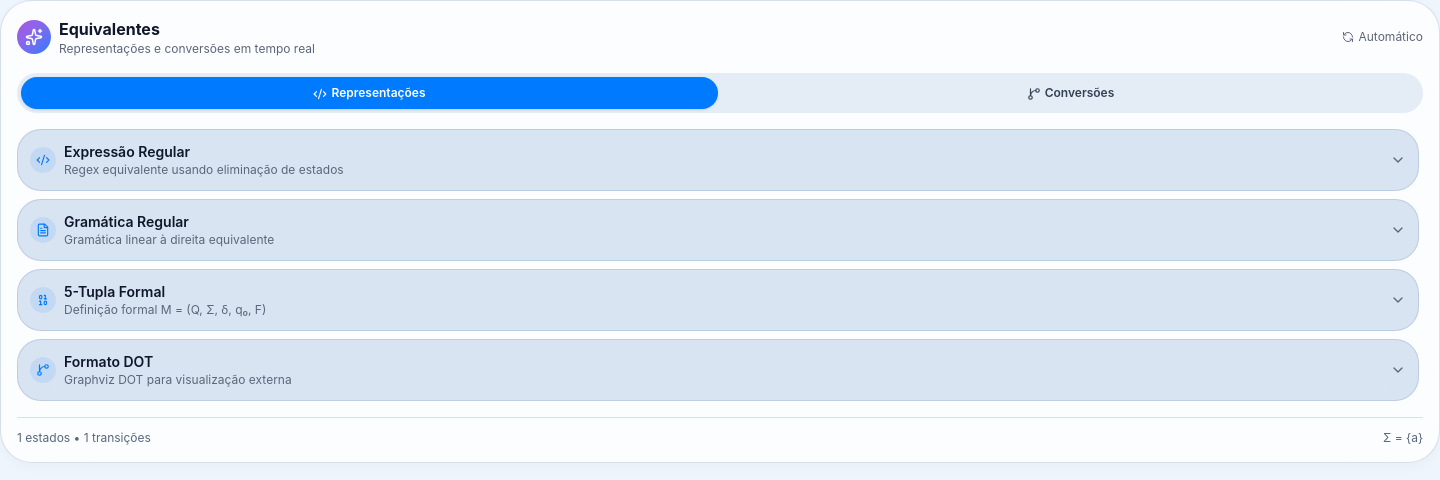
it: EquivalentsPanel › mantém conversões possíveis visíveis
The image size is (1440, 480).
Click the button "Conversões".
click(1070, 93)  # box [722,77,1419,109]
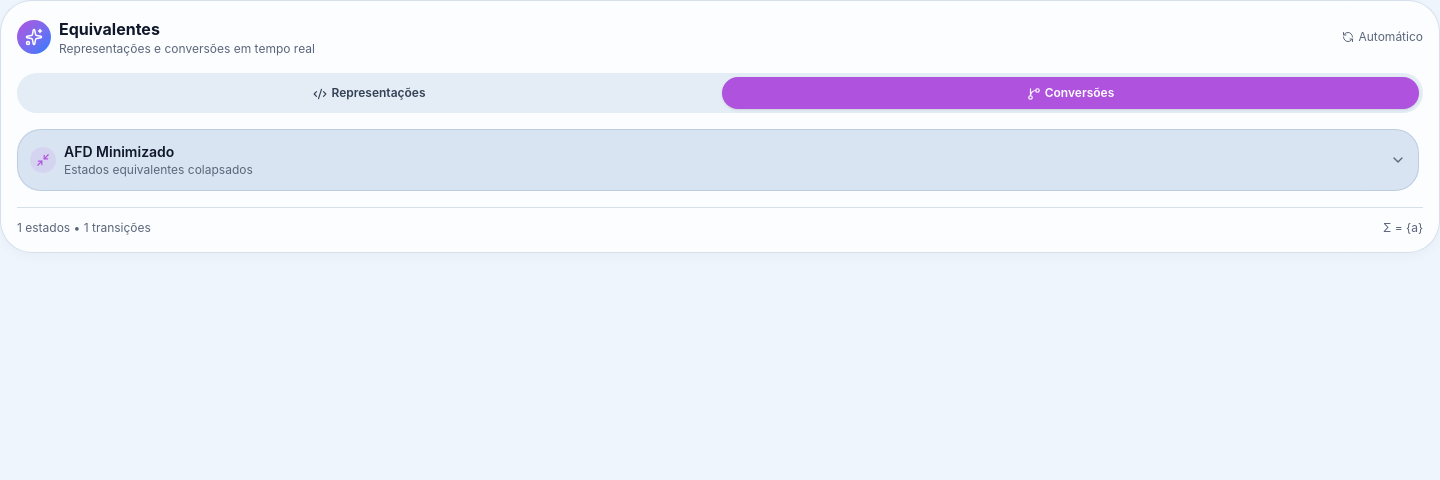
Result: the text "AFD Minimizado" is shown at [64,143,174,160]
